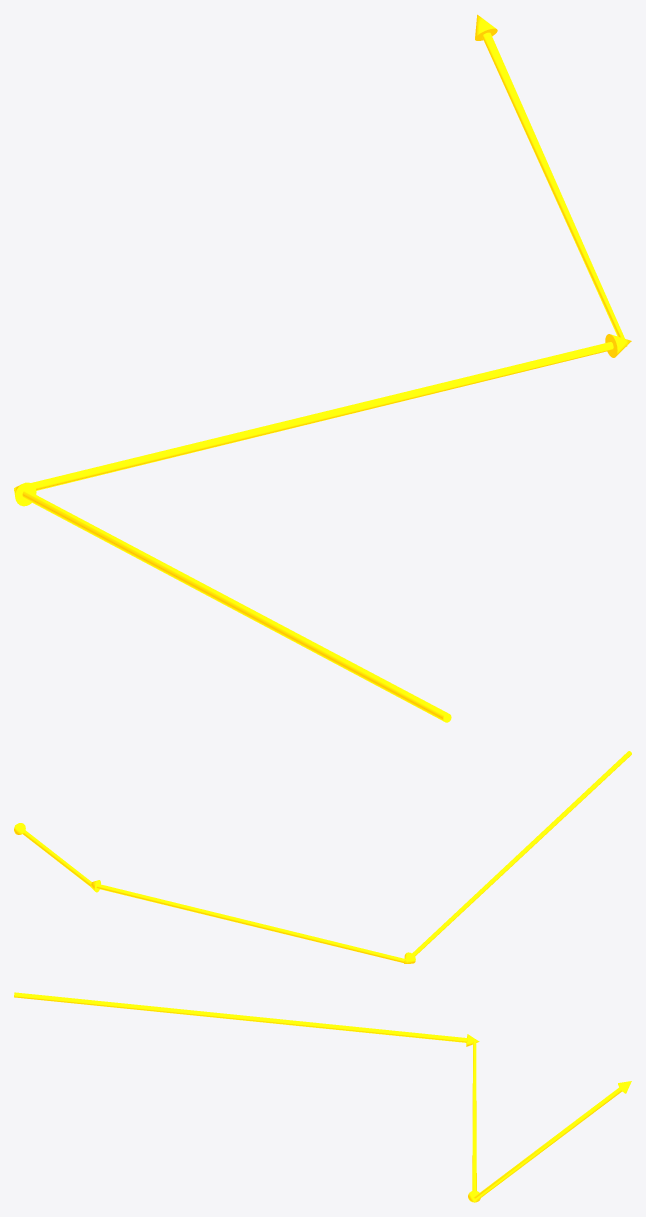
Rendered from fire_and_gas_detection_system_flow.glb.
3 renders of one model, top to bottom at view 1: azimuth 30°, elevation 25°; view 2: azimuth 150°, elevation 25°; view 3: azimuth 270°, elevation 25°, orthographic. The views are drawn at different scales.
Visible parts, largest first — view 1: signal_bus; view 2: signal_bus; view 3: signal_bus.
Boxes of the visible parts, x1=… form: signal_bus: x1=14, y1=14, x2=631, y2=722; signal_bus: x1=14, y1=751, x2=631, y2=963; signal_bus: x1=14, y1=992, x2=631, y2=1202.
Bounding box in the file's own units: 2.28 × 0.8082 × 3.62.
